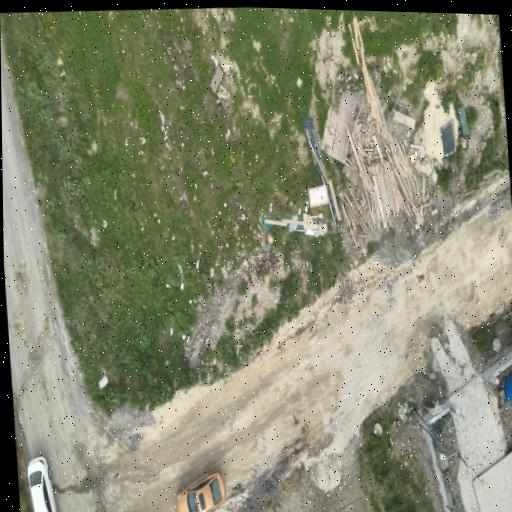car: (175, 470, 224, 511), (27, 457, 56, 511)
